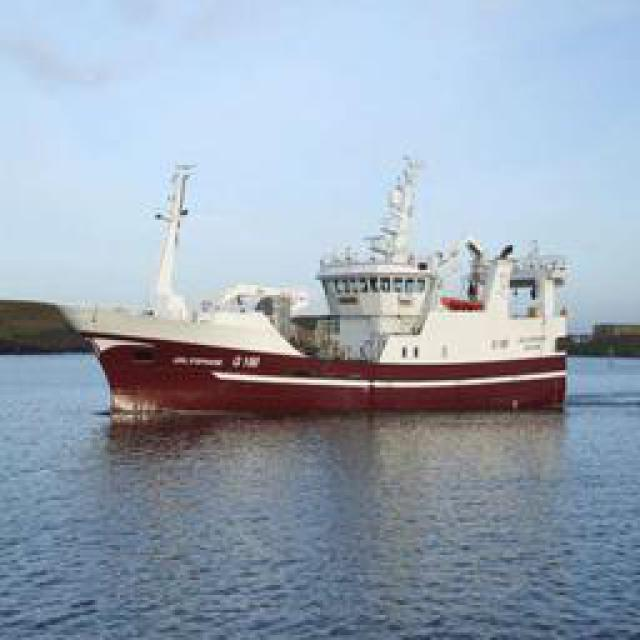Ship: (7, 155, 570, 413)
